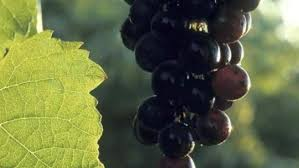Black grapes: (144, 10, 235, 160)
